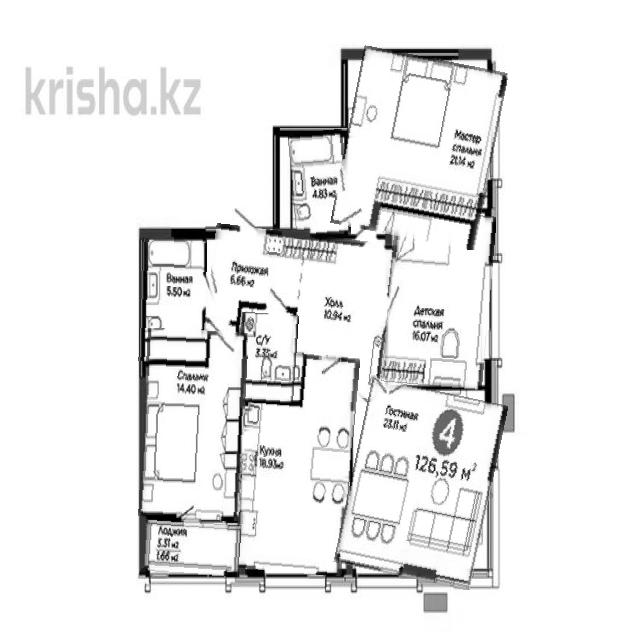balcony: (142, 521, 241, 575)
bathroom: (139, 237, 206, 362), (290, 130, 349, 238), (237, 314, 297, 404)
hallway: (205, 223, 397, 398)
kitchen: (235, 355, 360, 576)
living_room: (331, 48, 505, 230), (342, 383, 499, 584), (138, 331, 248, 519), (385, 210, 492, 388)
